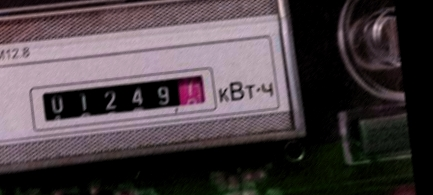0: (48, 92, 64, 113)
1: (75, 89, 89, 111)
2: (100, 87, 118, 110)
4: (129, 84, 144, 105)
7: (182, 75, 197, 96)
9: (155, 83, 170, 105)
screen: (25, 61, 220, 133)
